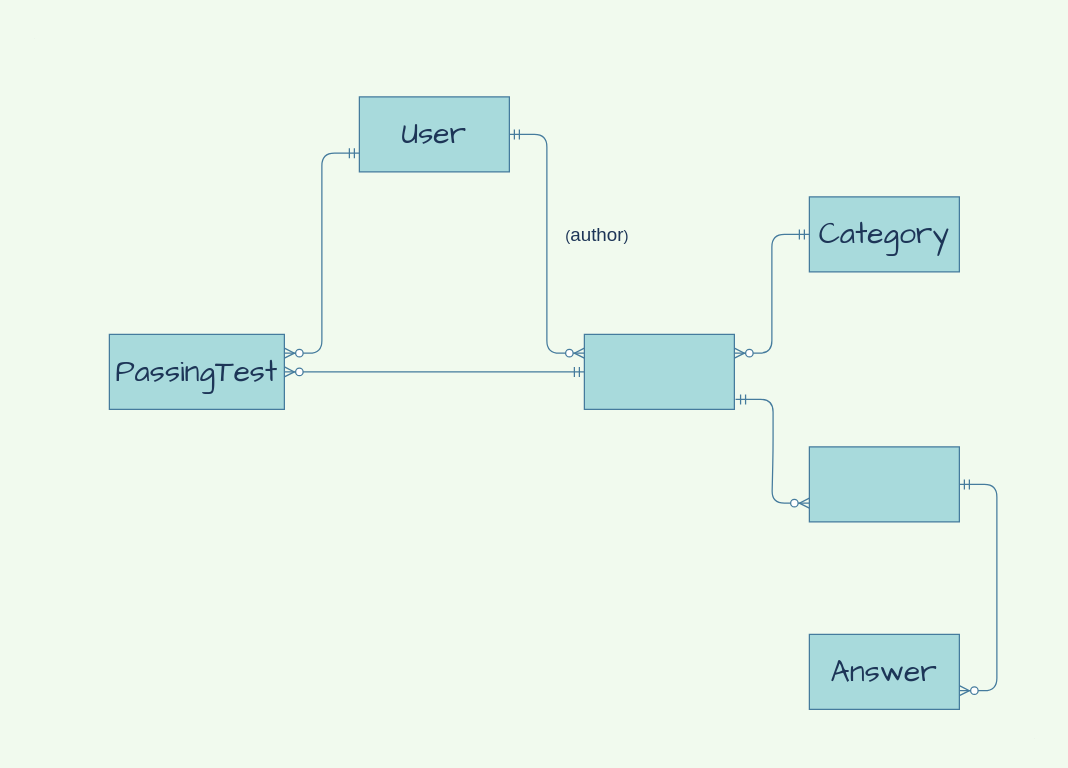
Image size: 1068x768. Some labels were removed from this diagram. Here are the shapes that lost their labels. From the top down, the centre of each, then its label:
the point at 658,371: Test
the point at 883,484: Question
